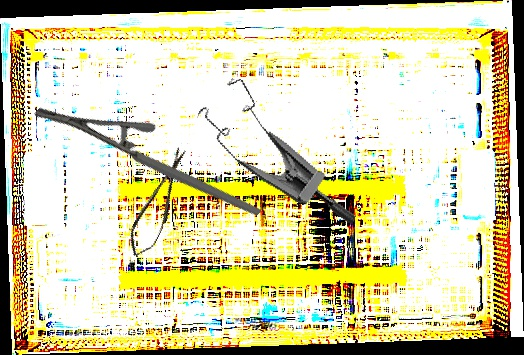Micro Scissor: (121, 144, 198, 262)
Needle Holder: (33, 50, 262, 275)
Speculum: (181, 69, 388, 226)
